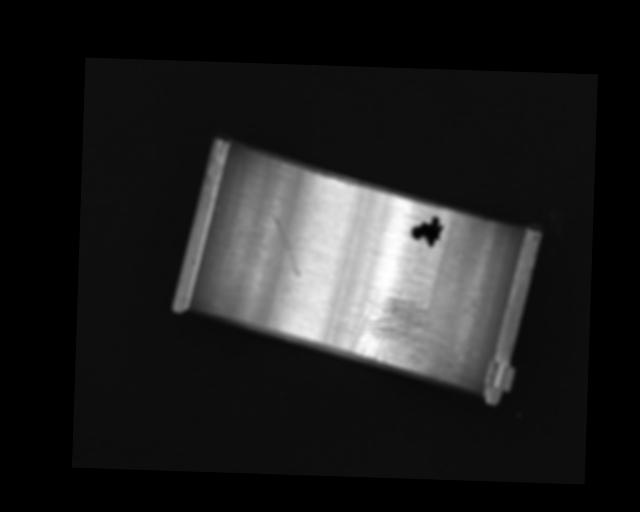blot: (410, 214, 445, 248)
nick: (335, 183, 360, 295), (269, 211, 303, 278)
scratch: (349, 285, 457, 383)
